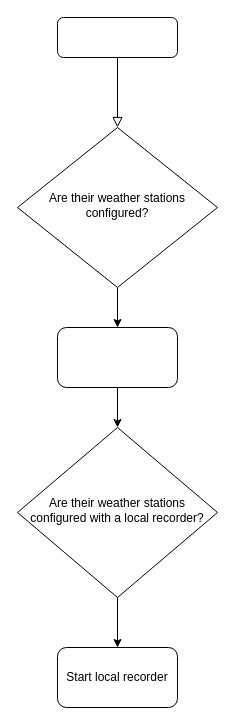
This 235x725 diagram has some shape labels left out. The box of each missing label's shape, as (x1, y1, x2, y2) in pixels:
Start REST api: (56, 16, 178, 58)
Start summary creators: (56, 326, 178, 388)
